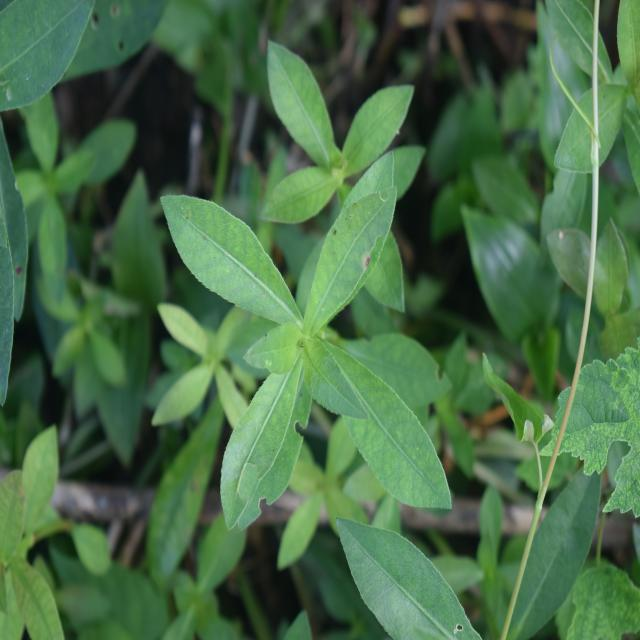Alligatorweed: (149, 166, 465, 532)
